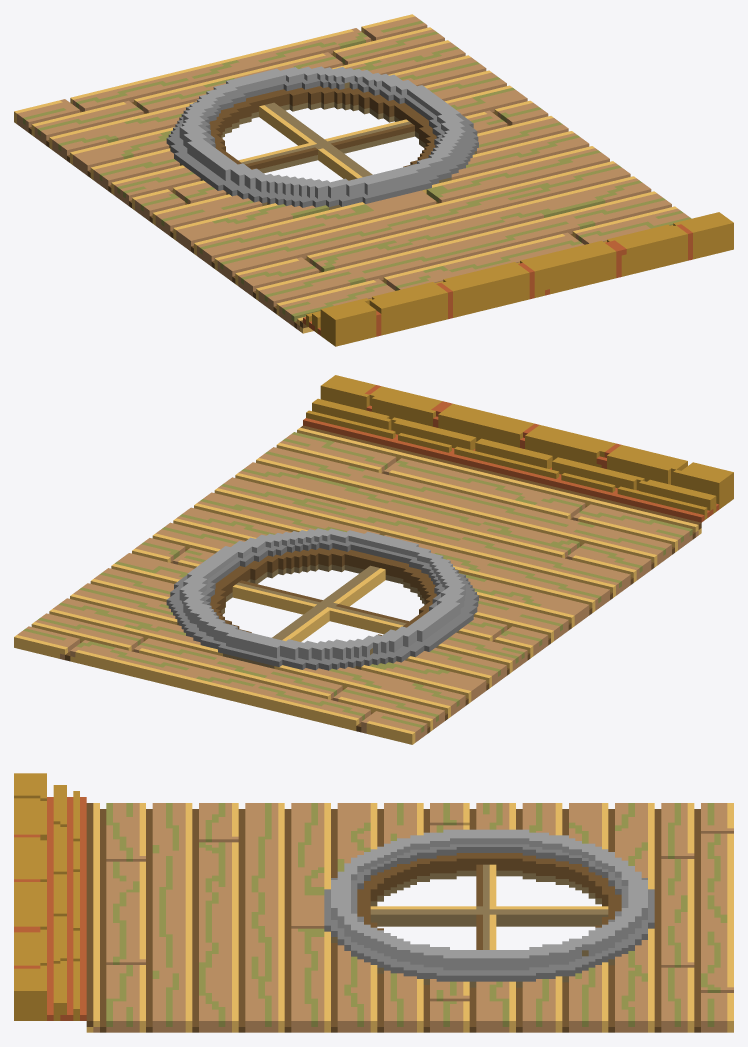
Rendered from cabin-1.obj.
3 renders of one model, top to bottom at view 1: azimuth 30°, elevation 25°; view 2: azimuth 150°, elevation 25°; view 3: azimuth 270°, elevation 25°, orthographic. The views are drawn at different scales.
Size of the model in its own units: 7.8 by 0.7 by 10.9.
Materials: 1 (1 with a texture image).
